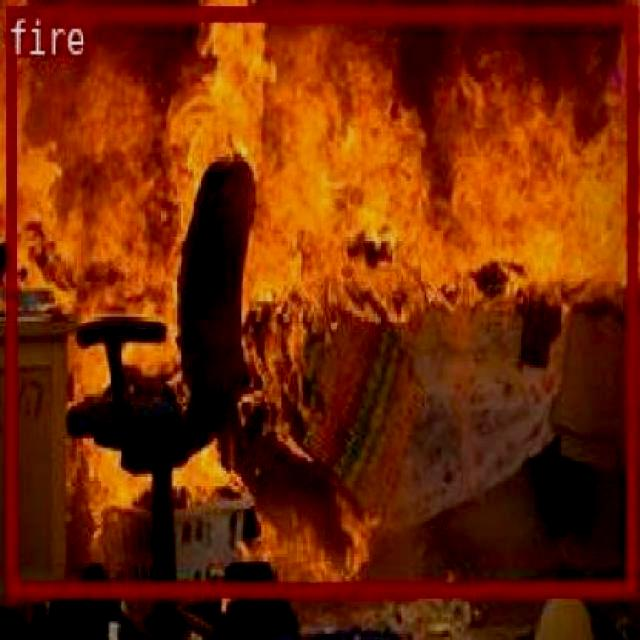fire: (6, 5, 634, 592)
